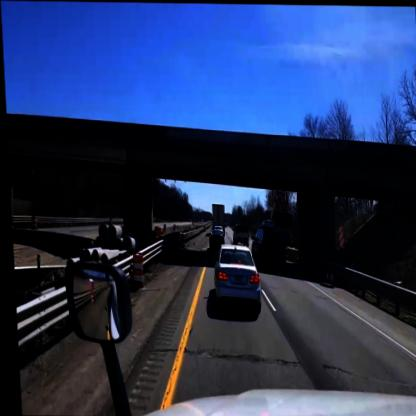obstacle: (128, 251, 144, 295)
